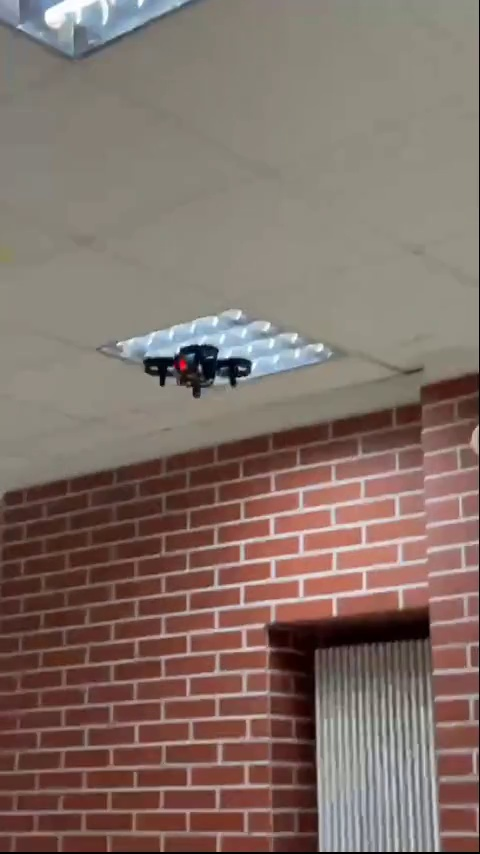drone: (144, 343, 248, 403)
